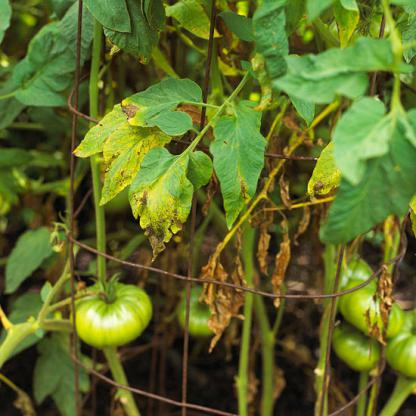Tomato Septoria leaf spot: (126, 151, 194, 259), (99, 114, 172, 210), (68, 93, 154, 167)
